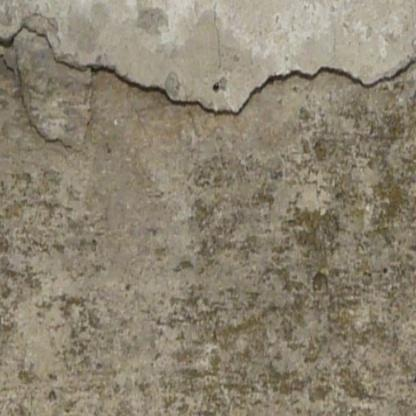Cracks: (52, 20, 416, 122), (0, 22, 59, 78), (18, 90, 65, 148)
